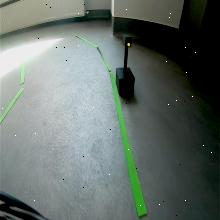green: (122, 34, 132, 48)
